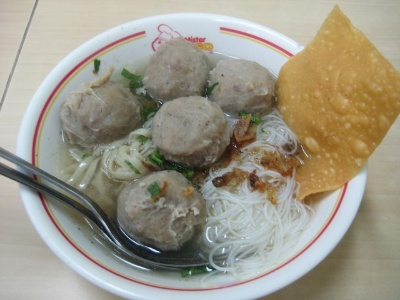bakso: (64, 43, 279, 250)
